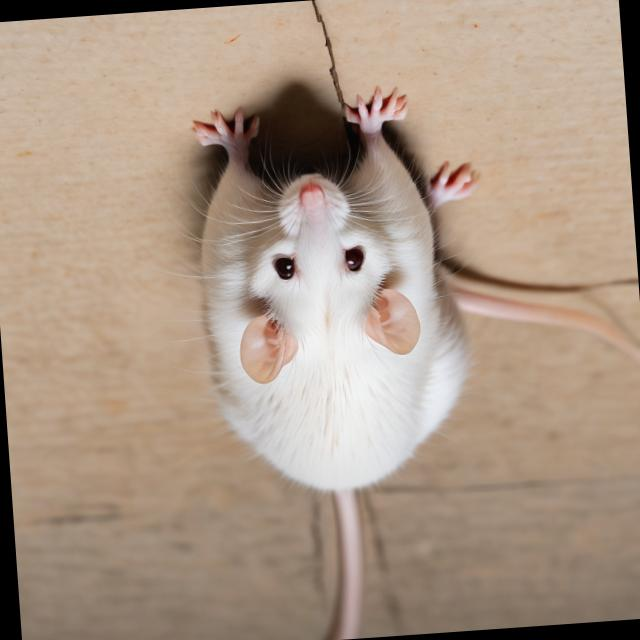rodent: (172, 121, 474, 510)
